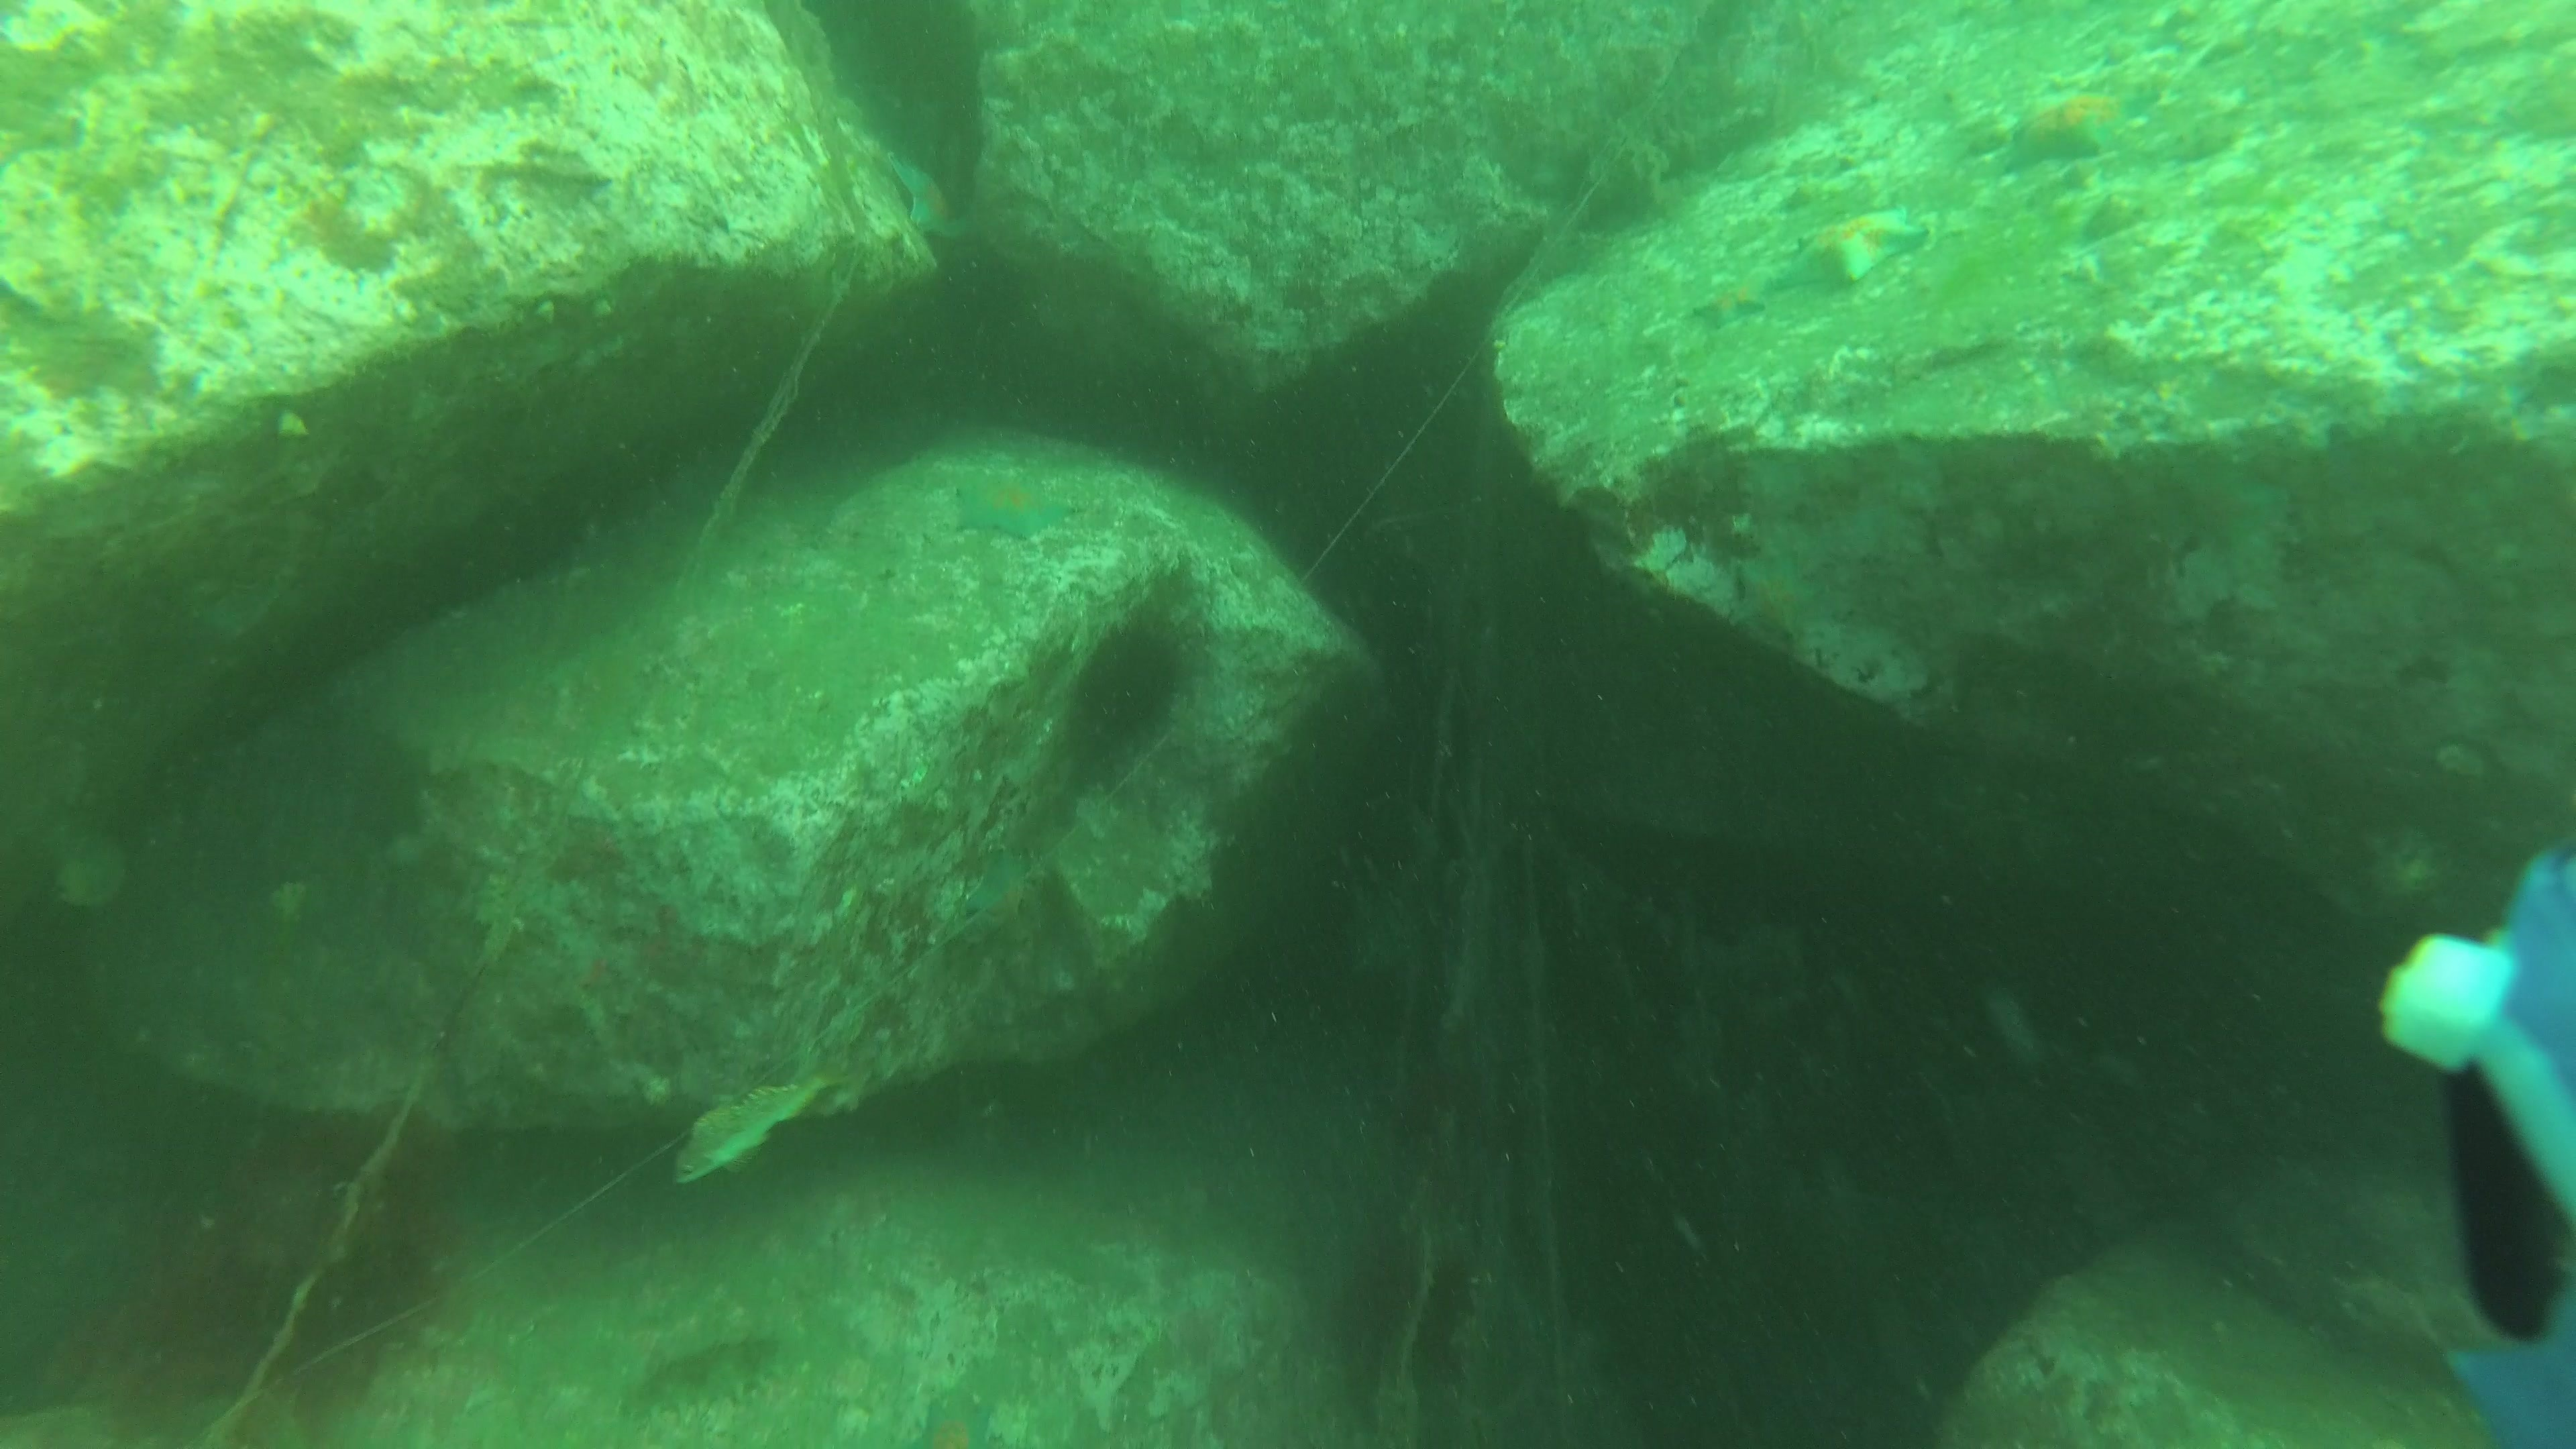echinus: (1063, 621, 1192, 754)
holothurian: (619, 1330, 805, 1424)
starfish: (2010, 88, 2162, 173), (876, 142, 980, 246), (1794, 203, 1927, 285), (947, 467, 1074, 545), (899, 1387, 1008, 1449)
